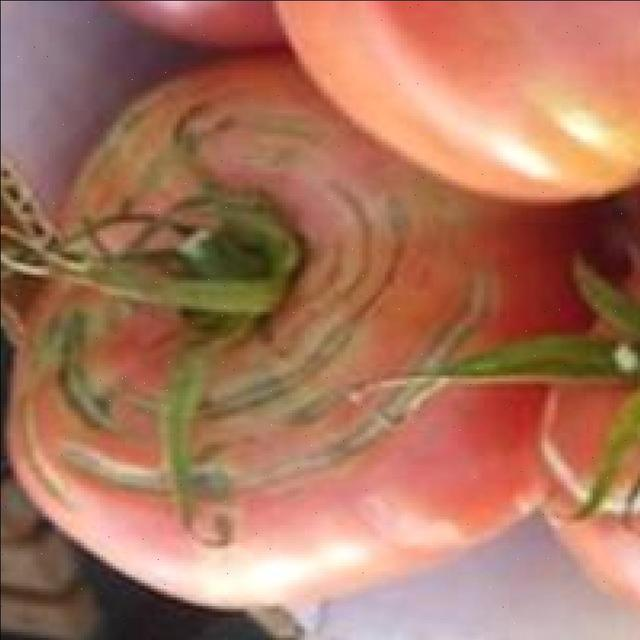Cracking Fruit: (27, 89, 310, 301)
